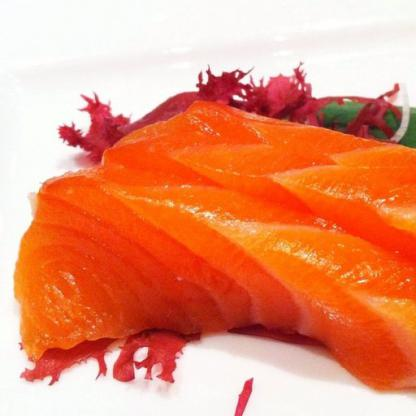salmon: (18, 100, 415, 386)
